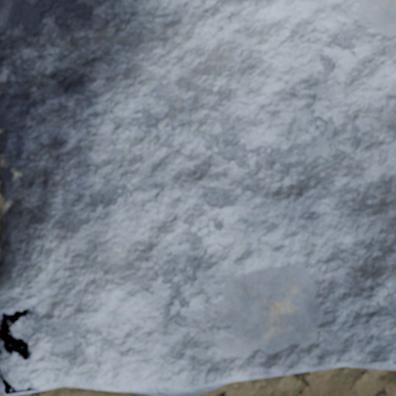brick: (0, 0, 395, 395), (0, 379, 5, 395)
crack: (0, 308, 33, 360), (0, 373, 40, 395)
